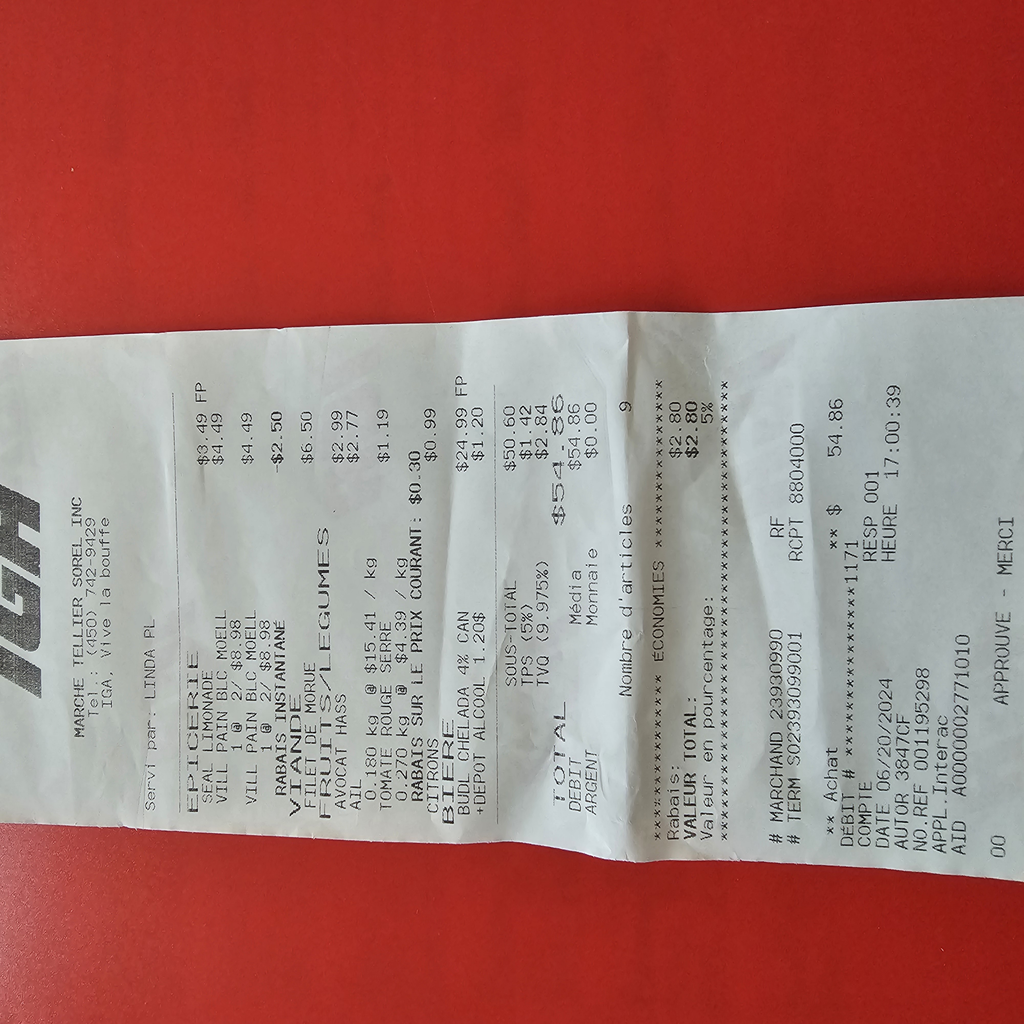recipt: (0, 298, 1024, 883)
